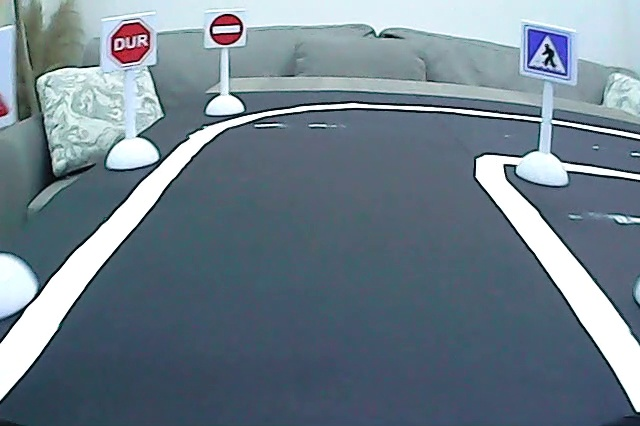do not enter: (207, 12, 245, 47)
pedestrian crossing: (520, 22, 576, 84)
stop sign: (108, 16, 154, 68)
